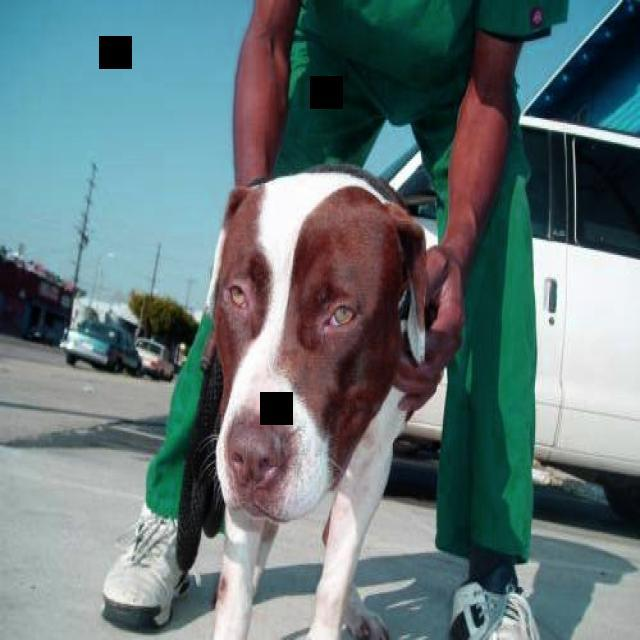adult_dog: (202, 166, 430, 640)
